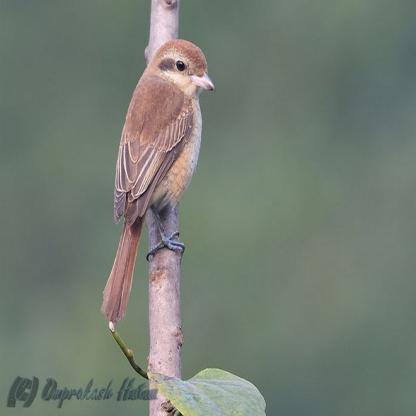Burung: (96, 37, 216, 325)
